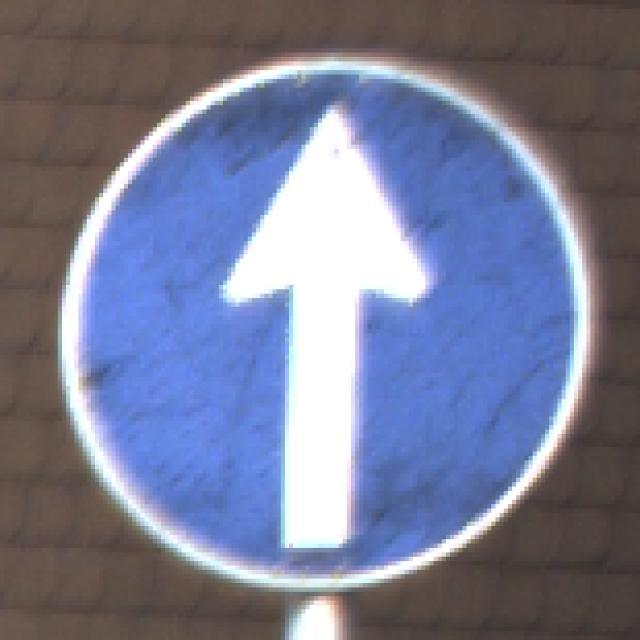compulsary ahead: (98, 78, 558, 575)
